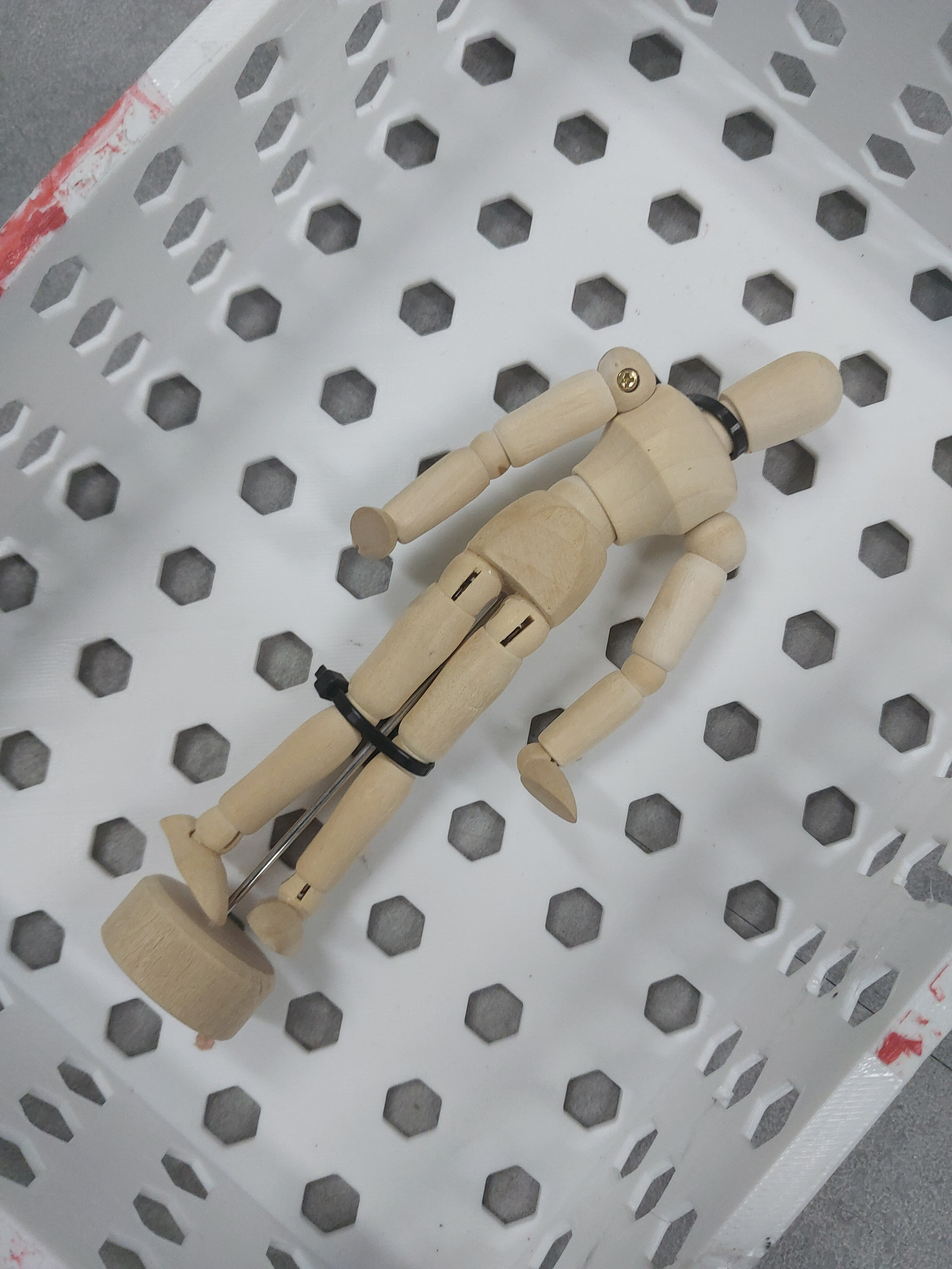mannequin: (90, 340, 852, 1057)
